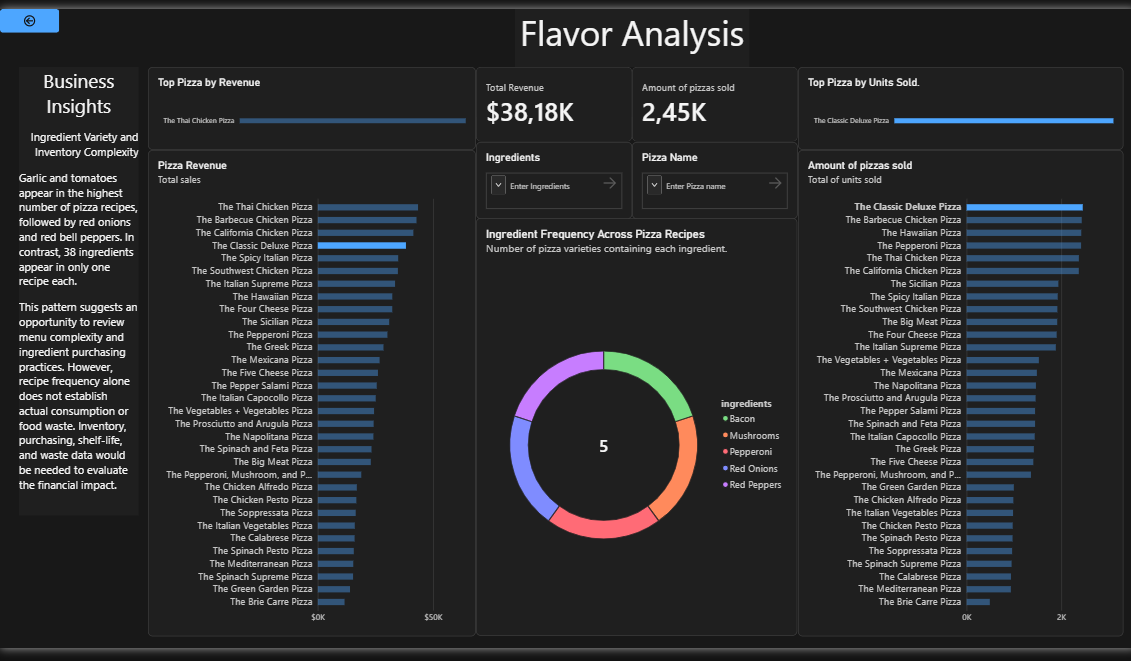

The dashboard page shown, as its layout file describes it:
{"tool":"powerbi","page":{"name":"Flavor_Analysis","canvas":[1920,1080],"ordinal":1},"visuals":[{"type":"clusteredBarChart","title":"Pizza Revenue","fields":{"Category":["Pizza_Revenue_By_Flavor.name"],"Y":["order_details.Total Sales"]},"box":[250,238,554,822],"z":0},{"type":"textbox","box":[870,0,396,98],"z":1000},{"type":"hundredPercentStackedBarChart","title":"Top Pizza by Revenue","fields":{"Category":["Pizza_Revenue_By_Flavor.name"],"Y":["order_details.Total Sales"]},"box":[250,98,554,140],"z":2000},{"type":"hundredPercentStackedBarChart","title":"Top Pizza by Units Sold.","fields":{"Category":["Pizza_Revenue_By_Flavor.name"],"Y":["Sum(Pizza_Revenue_By_Flavor.total_revenue)"]},"box":[1348,98,550,140],"z":3000},{"type":"donutChart","title":"Ingredient Frequency Across Pizza Recipes","fields":{"Category":["Pizza_Ingredients_Split.ingredients"],"Y":["CountNonNull(Pizza_Ingredients_Split.ingredients)"]},"box":[803.8,353.8,542.5,706.2],"z":4000},{"type":"clusteredBarChart","title":"Amount of pizzas sold","fields":{"Category":["Pizza_Revenue_By_Flavor.name"],"Y":["Sum(Pizza_Revenue_By_Flavor.total_quantity)"]},"box":[1348,238,550,822],"z":5000},{"type":"textSlicer","title":"Pizza Name","fields":{"Values":["Pizza_Revenue_By_Flavor.name"]},"box":[1068,224,280,130],"z":6000},{"type":"actionButton","box":[0,0,100,40],"z":7000},{"type":"cardVisual","fields":{"Data":["Sum(Pizza_Revenue_By_Flavor.total_revenue)"]},"box":[804,98,264,126],"z":8000},{"type":"cardVisual","fields":{"Data":["Sum(Pizza_Revenue_By_Flavor.total_quantity)"]},"box":[1068,98,280,126],"z":9000},{"type":"textbox","box":[32,98,202,758],"z":10000},{"type":"textSlicer","fields":{"Values":["Pizza_Ingredients_Split.ingredients"]},"box":[804,224,264,130],"z":10001}]}

Visuals, with their boxes on the page's 1920x1080 design canvas (x1, y1, x2, y2). These are canvas units, not pixel positions in the 1131x661 screenshot, which may show the page scaled, cropped or inside an application window:
"Pizza Revenue" clusteredBarChart: 250, 238, 804, 1060
textbox: 870, 0, 1266, 98
"Top Pizza by Revenue" hundredPercentStackedBarChart: 250, 98, 804, 238
"Top Pizza by Units Sold." hundredPercentStackedBarChart: 1348, 98, 1898, 238
"Ingredient Frequency Across Pizza Recipes" donutChart: 804, 354, 1346, 1060
"Amount of pizzas sold" clusteredBarChart: 1348, 238, 1898, 1060
"Pizza Name" textSlicer: 1068, 224, 1348, 354
actionButton: 0, 0, 100, 40
cardVisual - Sum(Pizza_Revenue_By_Flavor.total_revenue): 804, 98, 1068, 224
cardVisual - Sum(Pizza_Revenue_By_Flavor.total_quantity): 1068, 98, 1348, 224
textbox: 32, 98, 234, 856
textSlicer - Pizza_Ingredients_Split.ingredients: 804, 224, 1068, 354
